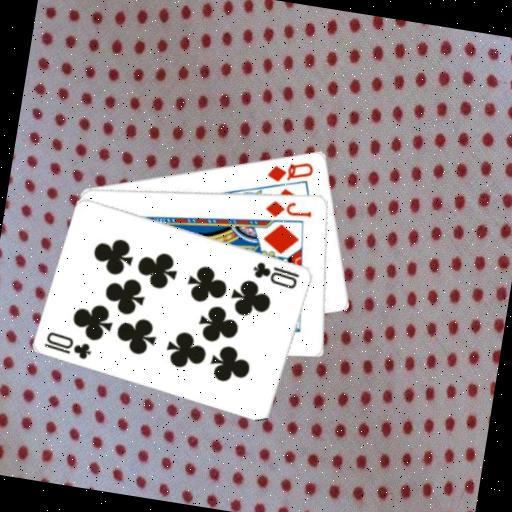10C: (40, 327, 96, 362), (248, 256, 303, 291)
JD: (261, 194, 315, 224)
QD: (262, 152, 316, 188)
